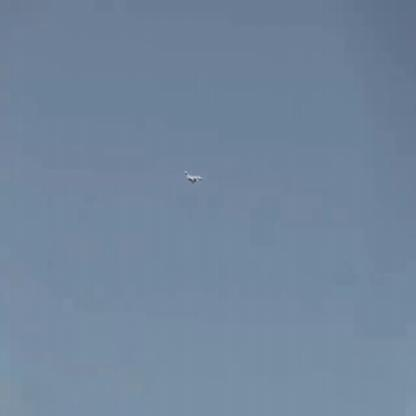CIV_Plane: (184, 171, 206, 183)
